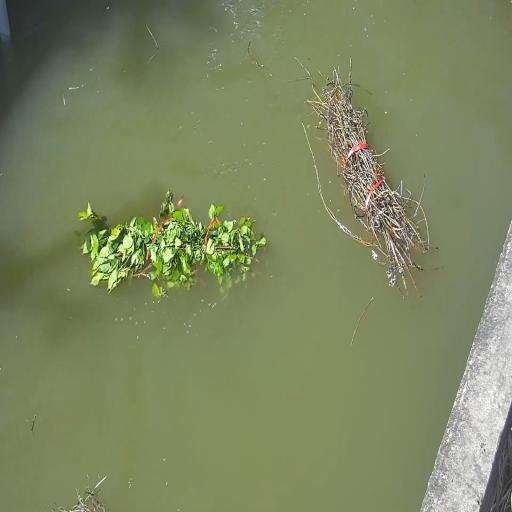twig: (302, 69, 429, 293), (79, 190, 266, 298), (52, 477, 108, 512)
